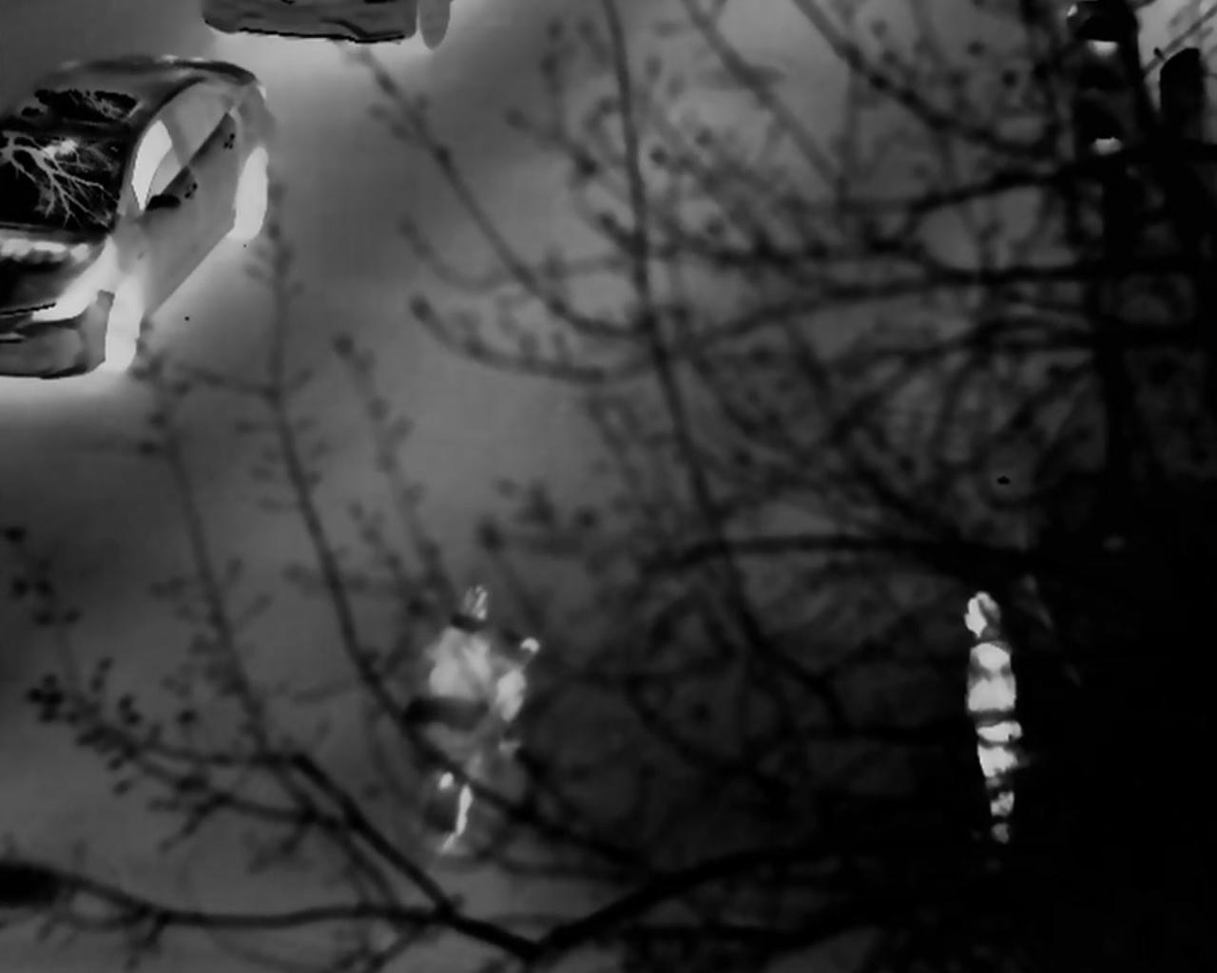person: (416, 590, 502, 806), (967, 588, 1018, 840)
